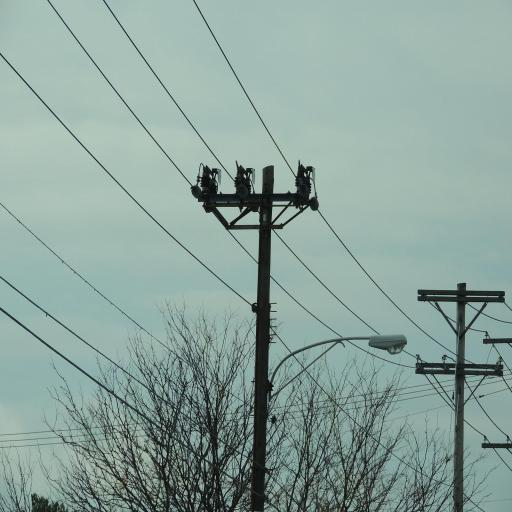mono_7: (194, 158, 320, 512), (413, 280, 508, 512)
